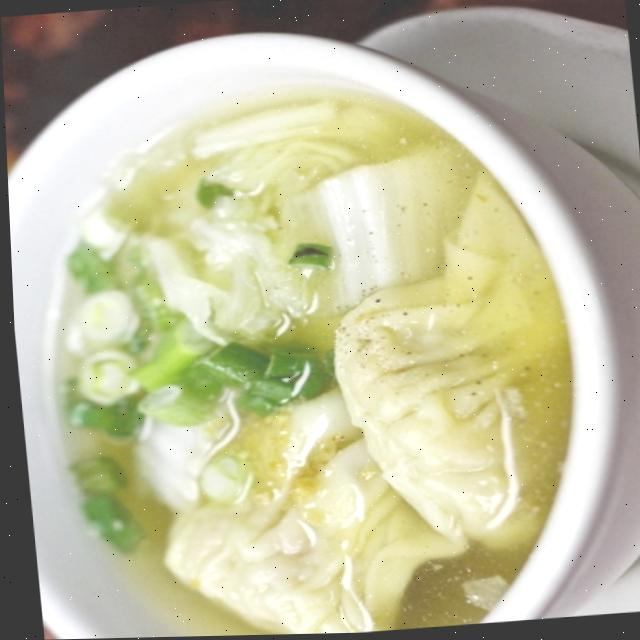汤锅炖物: (9, 32, 640, 640)
